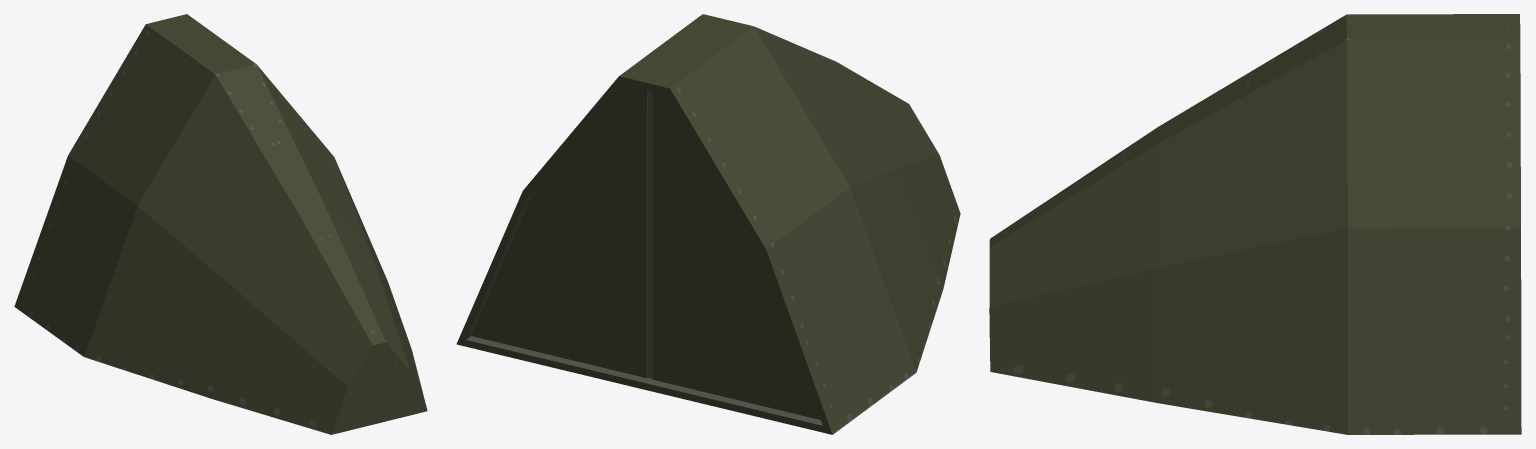
The model's file is Tent.fbx.
3 renders of one model, left to right at view 1: azimuth 30°, elevation 25°; view 2: azimuth 150°, elevation 25°; view 3: azimuth 270°, elevation 25°, orthographic. The views are drawn at different scales.
Parts seen in each view (by area): view 1: Tent; view 2: Tent; view 3: Tent.
Part boxes in pixels (bbox=[...]): Tent: bbox=[14, 14, 427, 434]; Tent: bbox=[456, 14, 960, 434]; Tent: bbox=[989, 14, 1521, 434].
Size of the model in its own units: 256 by 200 by 307.
